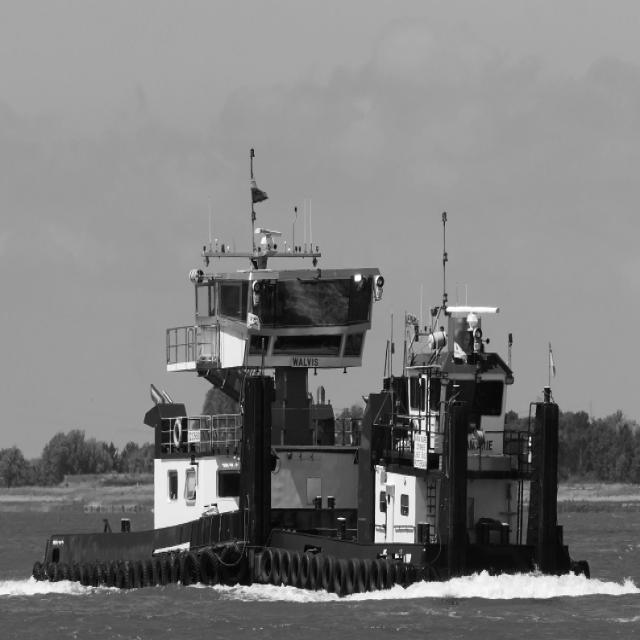tugboat: (27, 227, 601, 605)
